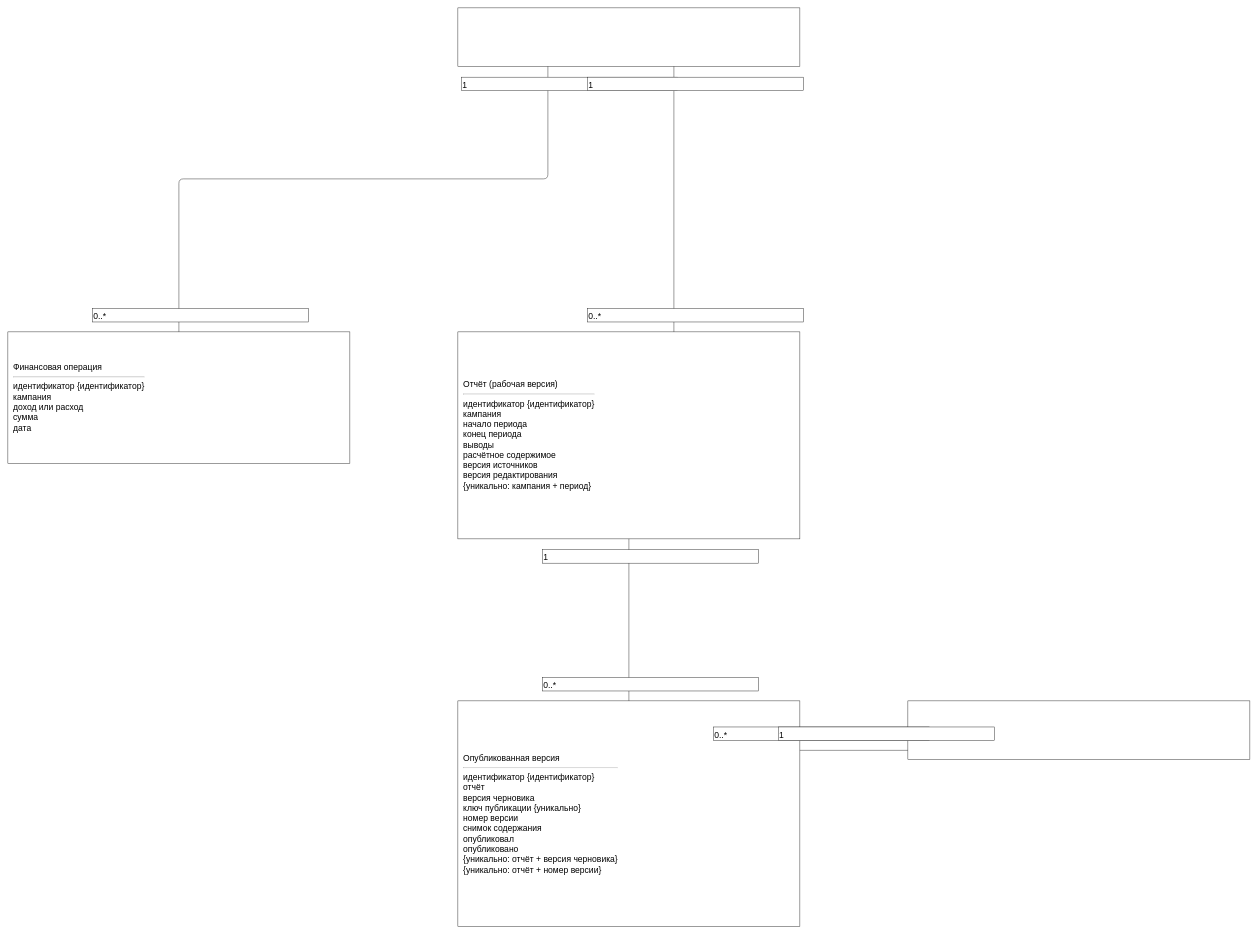
Some shapes in this 1258 by 935 pixel diagram are drawn without their labels. Each missing label, with the centre of its shape:
"«reference» Кампания идентификатор {идентификатор}" belongs at [628,36].
"«reference» Пользователь идентификатор {идентификатор}" belongs at [1078,729].
